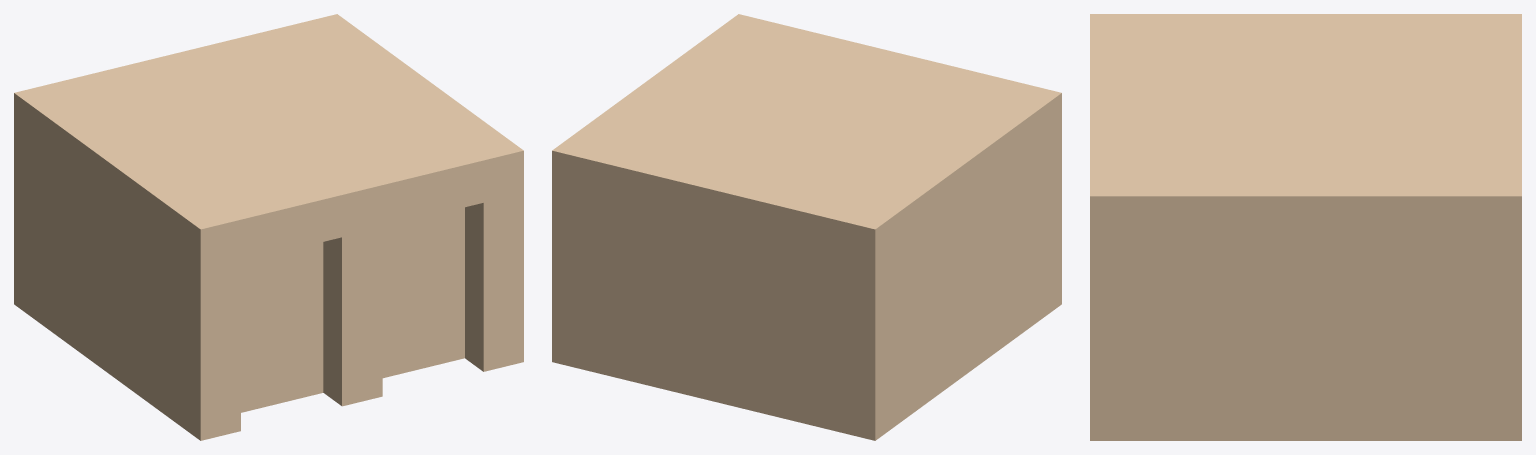
File: building-windows-high-top-square.obj
The picture shows the model from 3 angles, left to right: view 1: azimuth 30°, elevation 25°; view 2: azimuth 150°, elevation 25°; view 3: azimuth 270°, elevation 25°; orthographic projection. The views are drawn at different scales.
Size of the model in its own units: 1 by 0.625 by 1.
